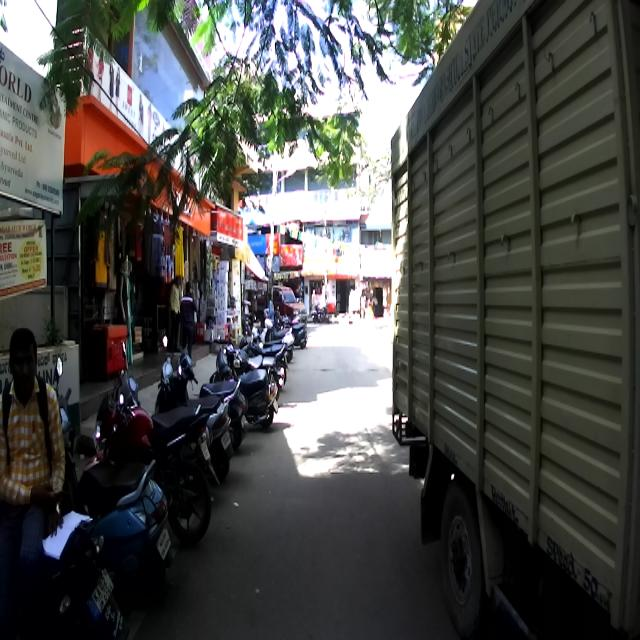motorcycle ahead at: (86, 381, 220, 582)
truck ahead at: (390, 0, 640, 640)
